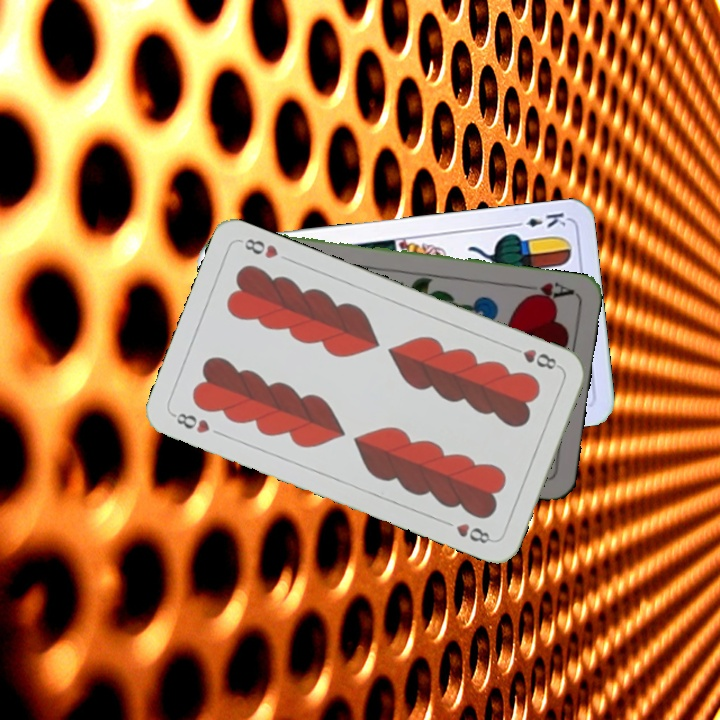EK: (509, 208, 569, 230)
H8: (506, 342, 563, 373), (168, 408, 213, 436)
HA: (517, 277, 576, 304)
